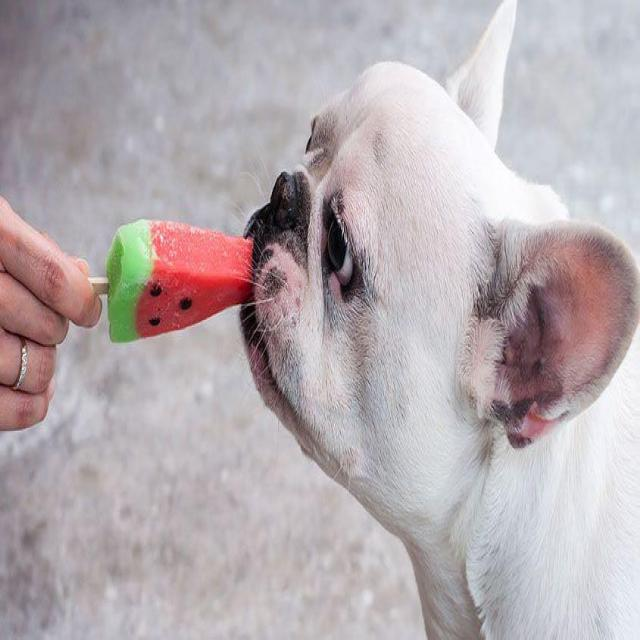Dog: (234, 3, 640, 560)
